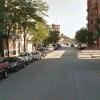Tree: (2, 0, 47, 46)
